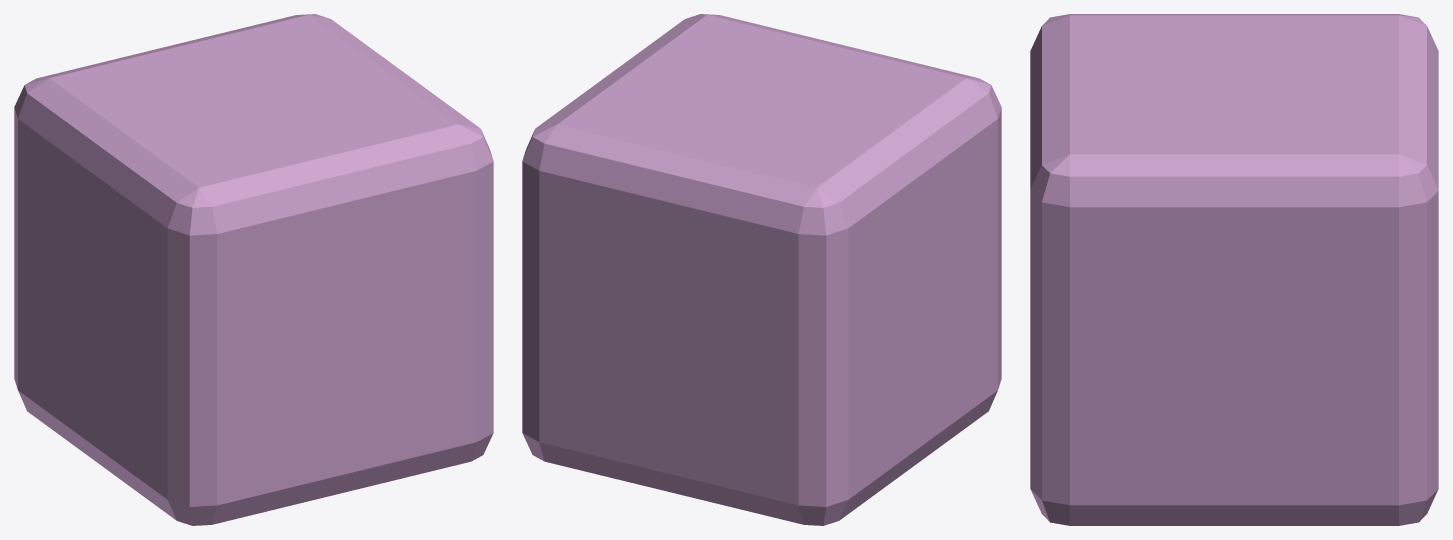
File: mycube.glb
3 renders of one model, left to right at view 1: azimuth 30°, elevation 25°; view 2: azimuth 150°, elevation 25°; view 3: azimuth 270°, elevation 25°, orthographic. The views are drawn at different scales.
Parts seen in each view (by area): view 1: Mesh_Mesh_head_geo.001_lambert2SG.001; view 2: Mesh_Mesh_head_geo.001_lambert2SG.001; view 3: Mesh_Mesh_head_geo.001_lambert2SG.001.
Part boxes in pixels (x1,y1,x2,y2): Mesh_Mesh_head_geo.001_lambert2SG.001: [14, 14, 493, 525]; Mesh_Mesh_head_geo.001_lambert2SG.001: [522, 14, 1001, 525]; Mesh_Mesh_head_geo.001_lambert2SG.001: [1030, 14, 1438, 525].
Size of the model in its own units: 0.05 by 0.05 by 0.05.
